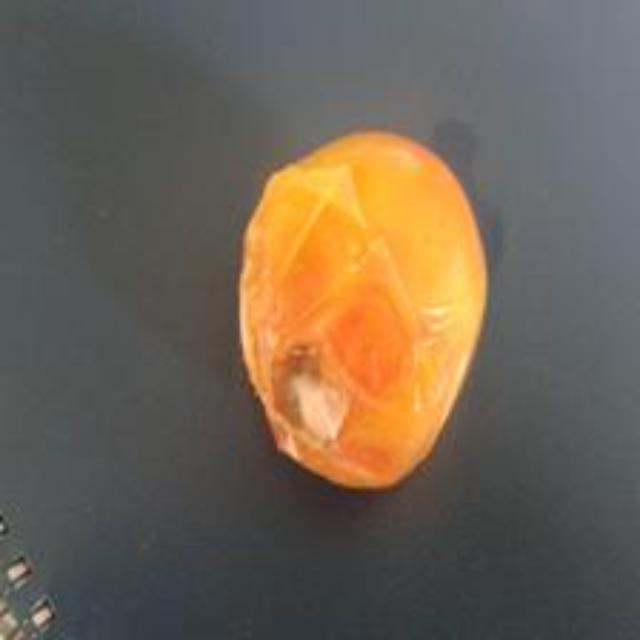defect: (231, 122, 492, 496)
